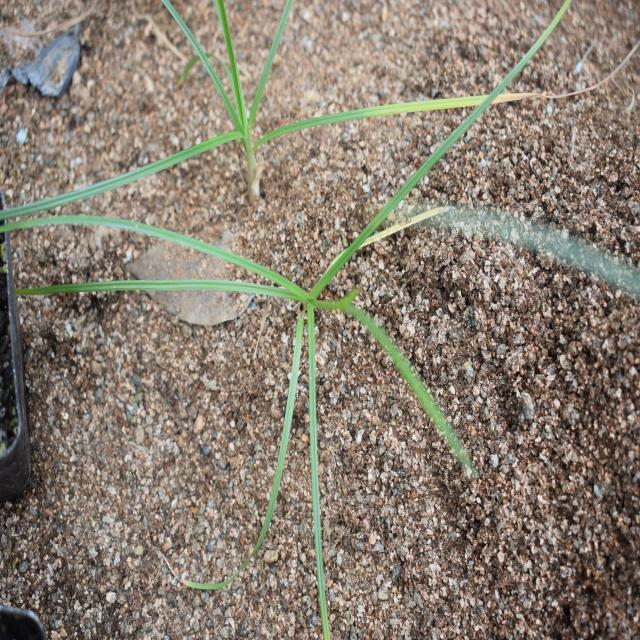sedge: (18, 156, 550, 554), (3, 0, 365, 233)
